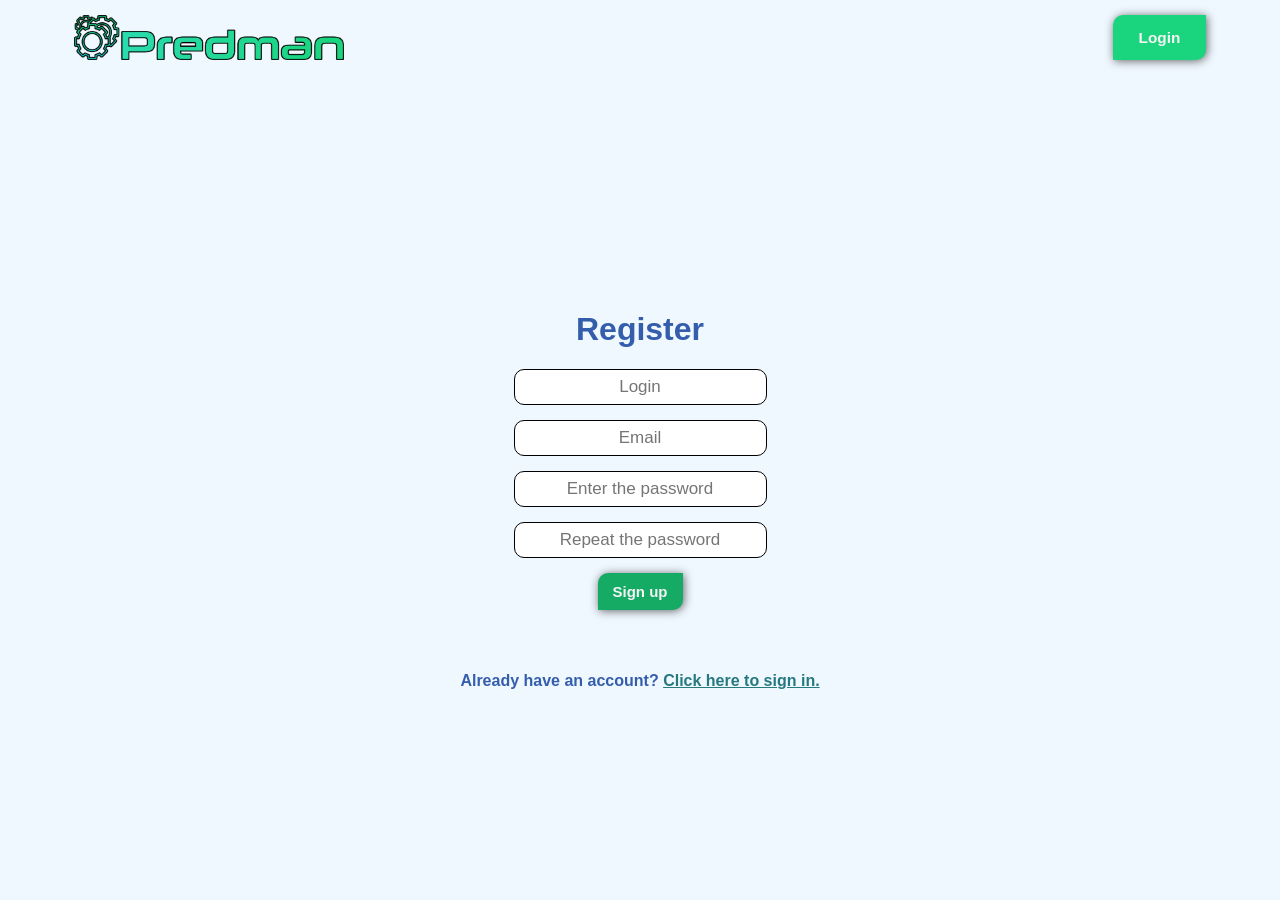
Register component › displays error message for 400 status (email exists)
In the field with placeholder "Login": (640, 387) [514,369,766,405], type "testlogin"
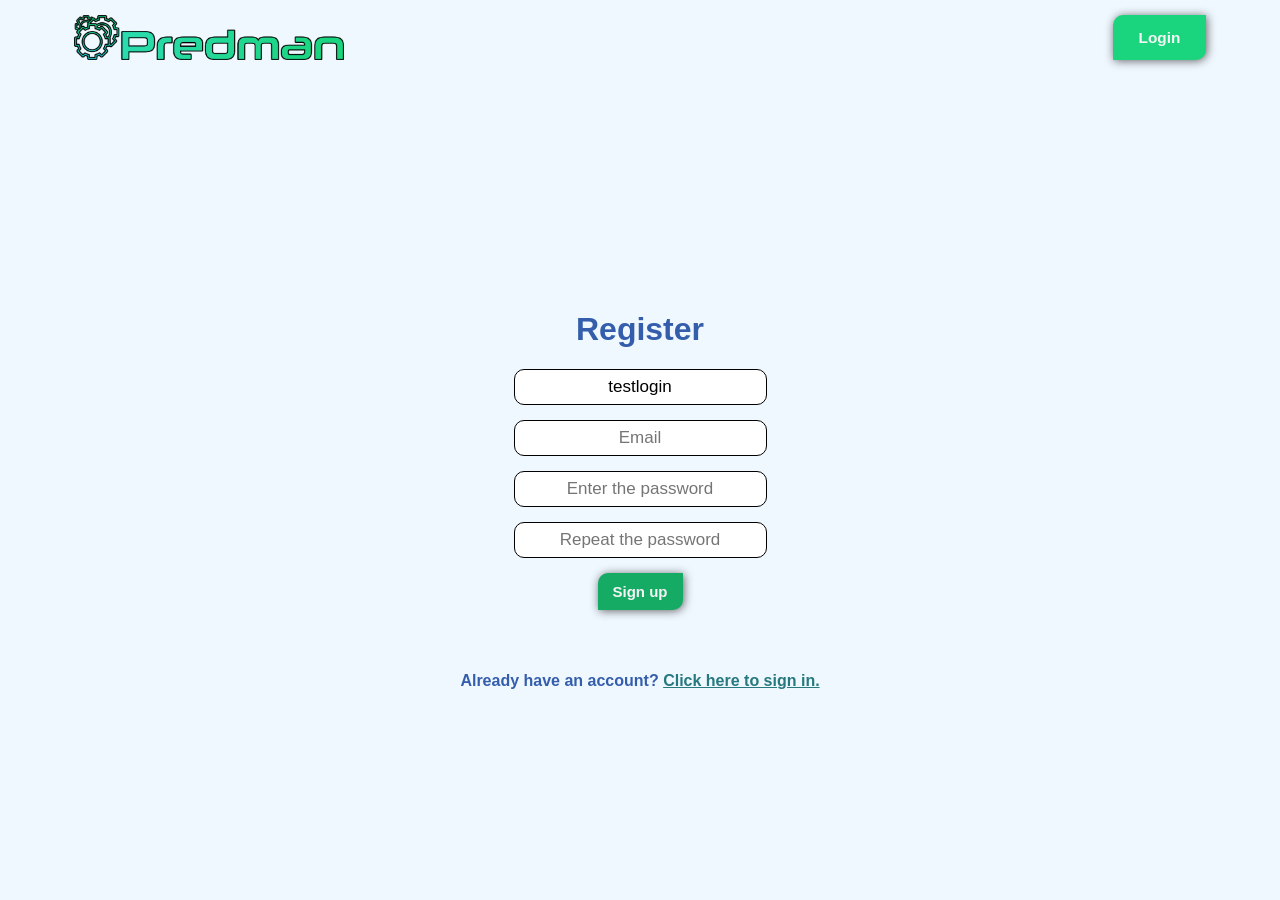
In the field with placeholder "Email": (640, 438) [514,420,766,456], type "test@example.com"
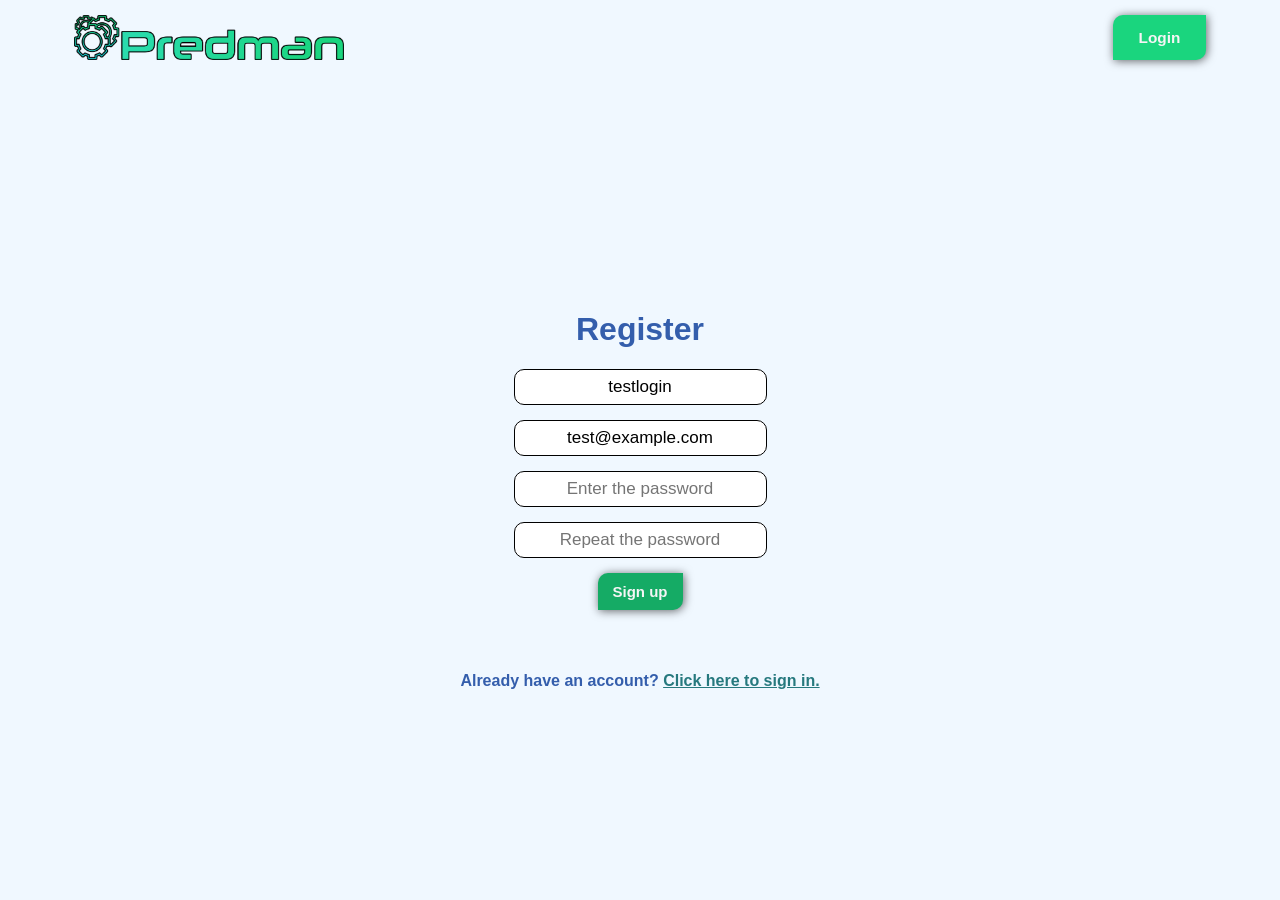
In the password field with placeholder "Enter the password": (640, 489) [514,471,766,507], type "Password1!"
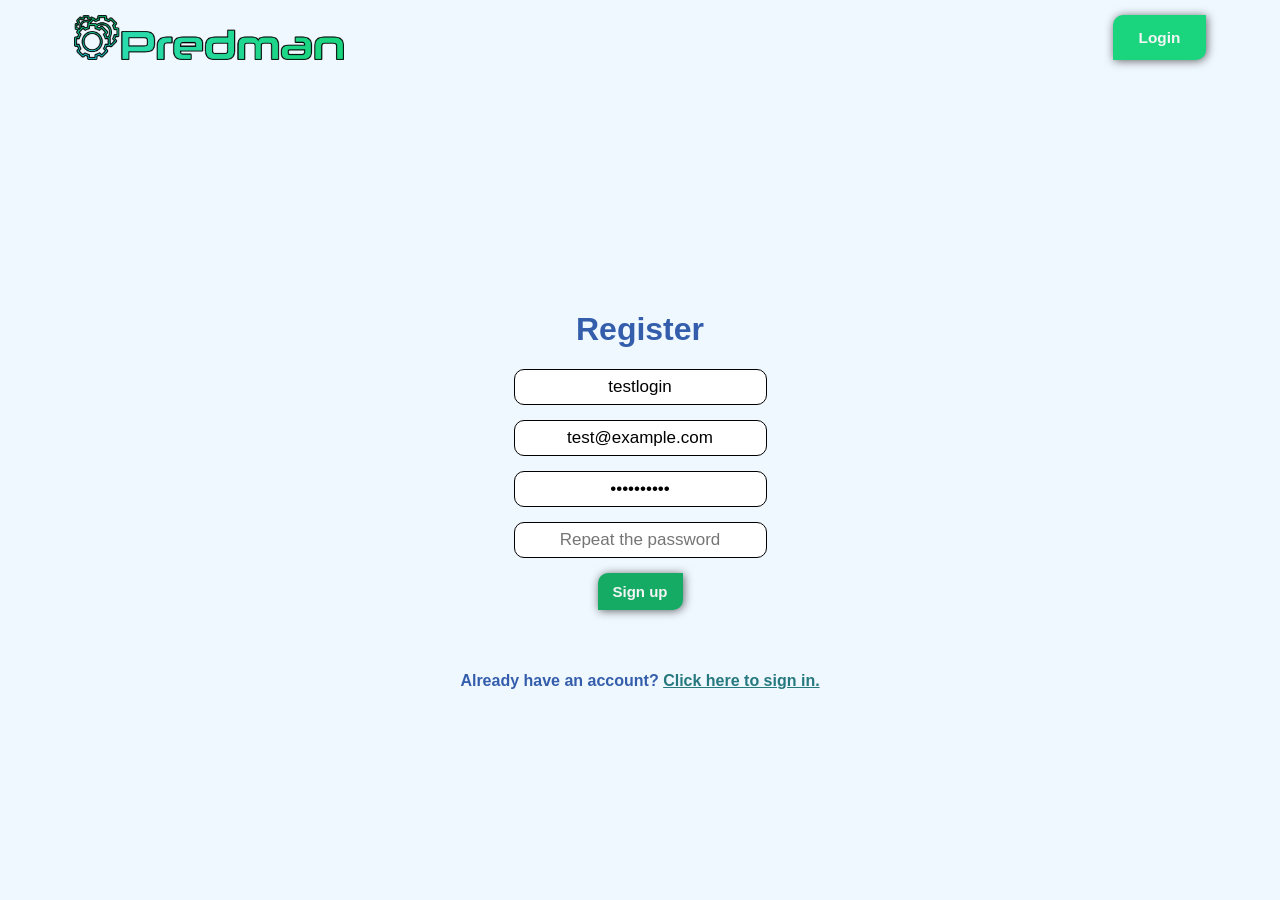
In the password field with placeholder "Repeat the password": (640, 540) [514,522,766,558], type "Password1!"
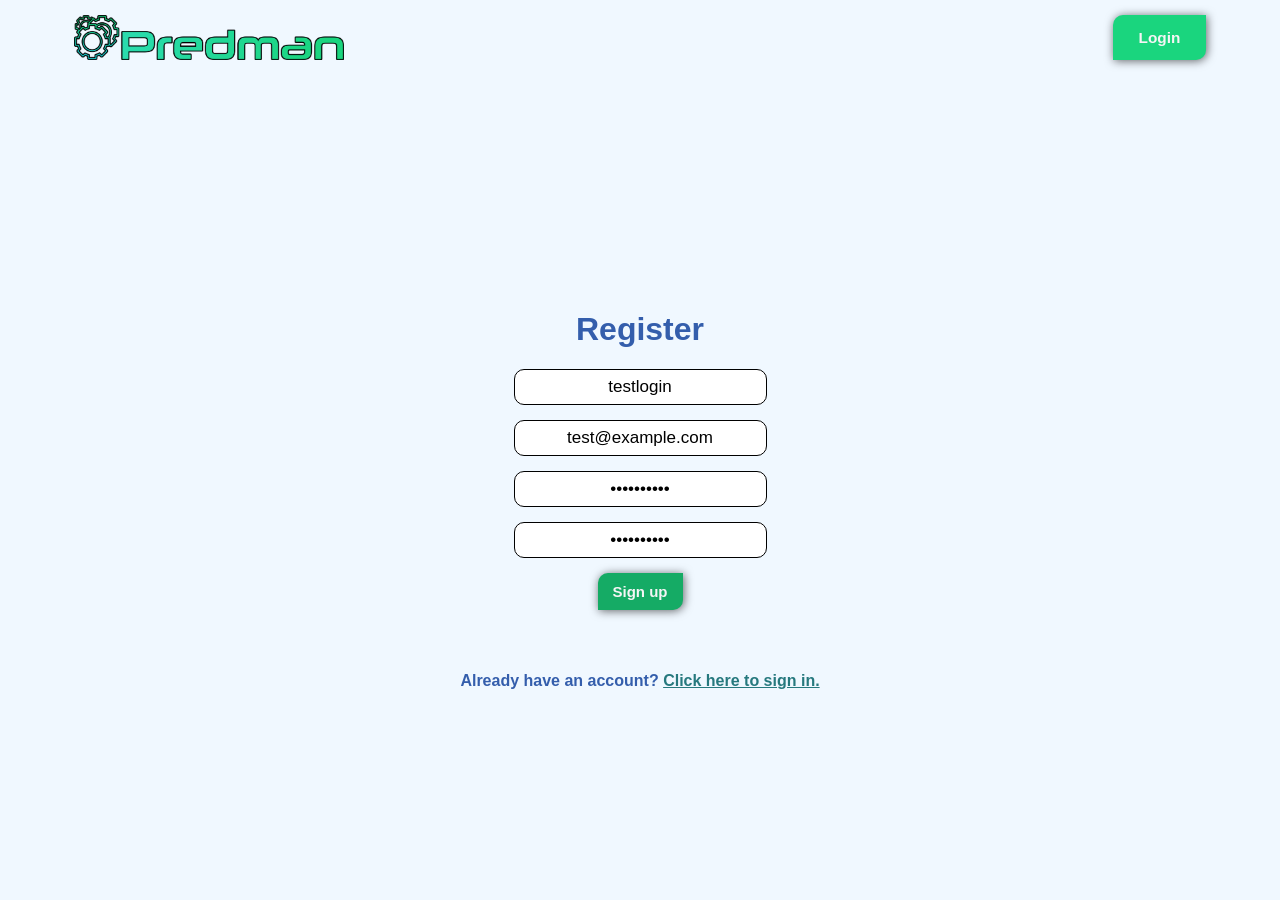
Click the button "Sign up": (640, 592) [598,573,682,610]
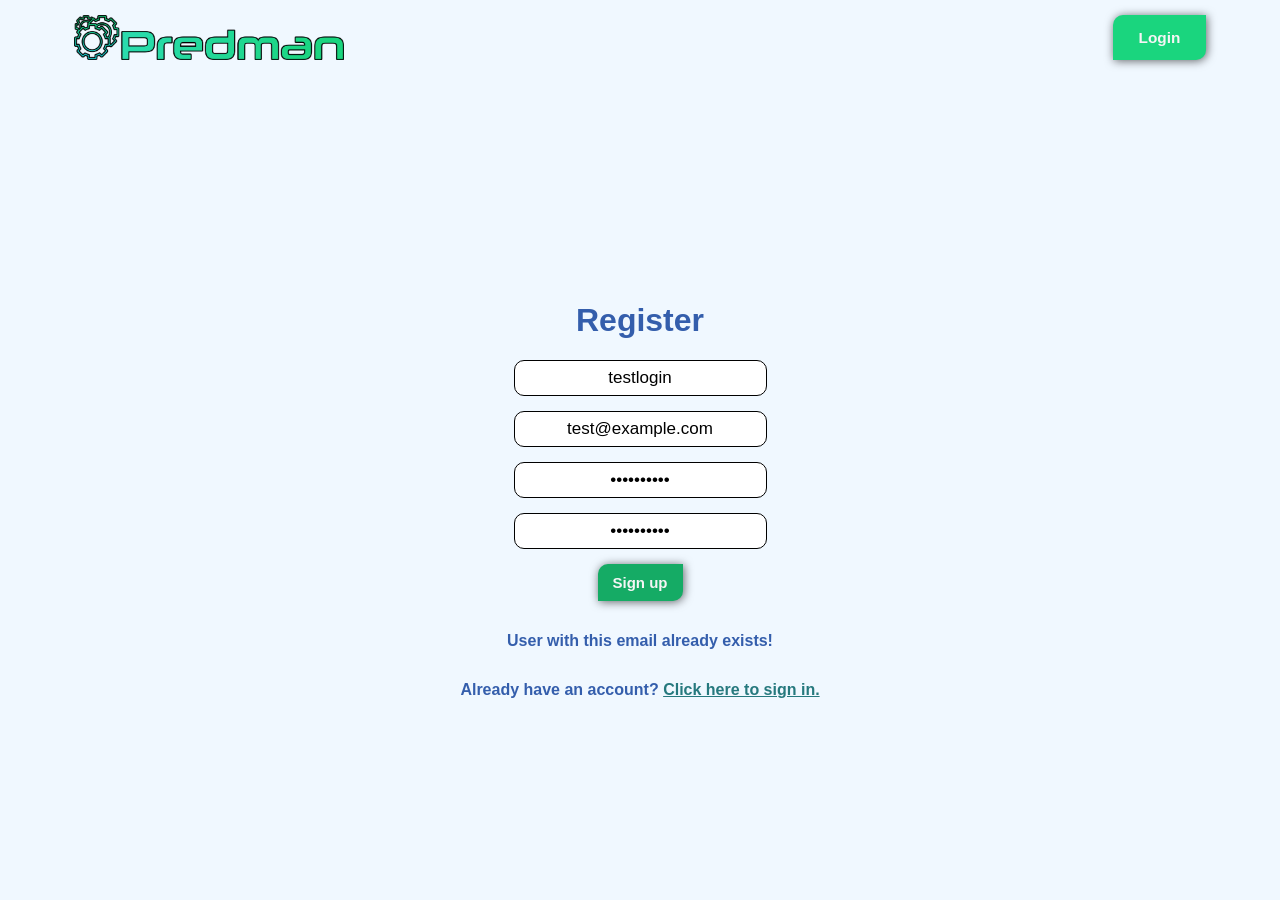
Check: the text "User with this email already exists!" is shown, box [507,632,773,650]
